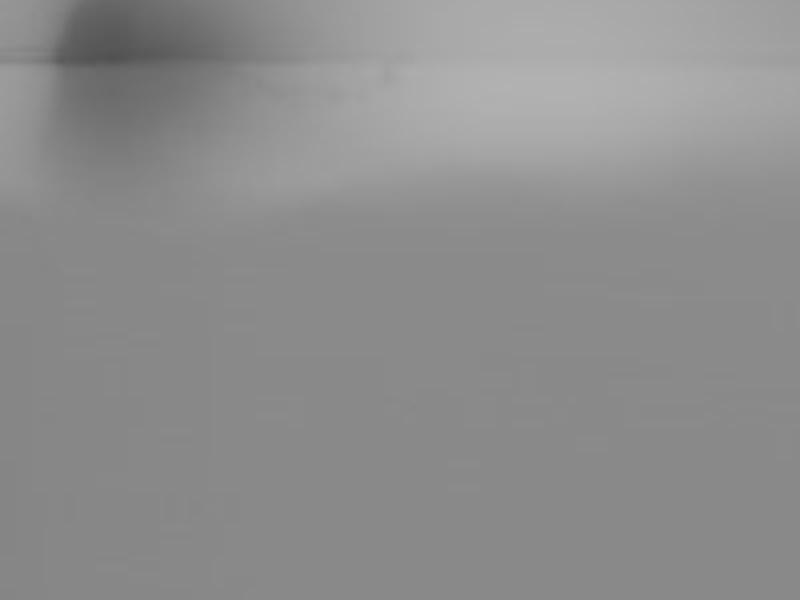defect: (60, 1, 205, 106)
